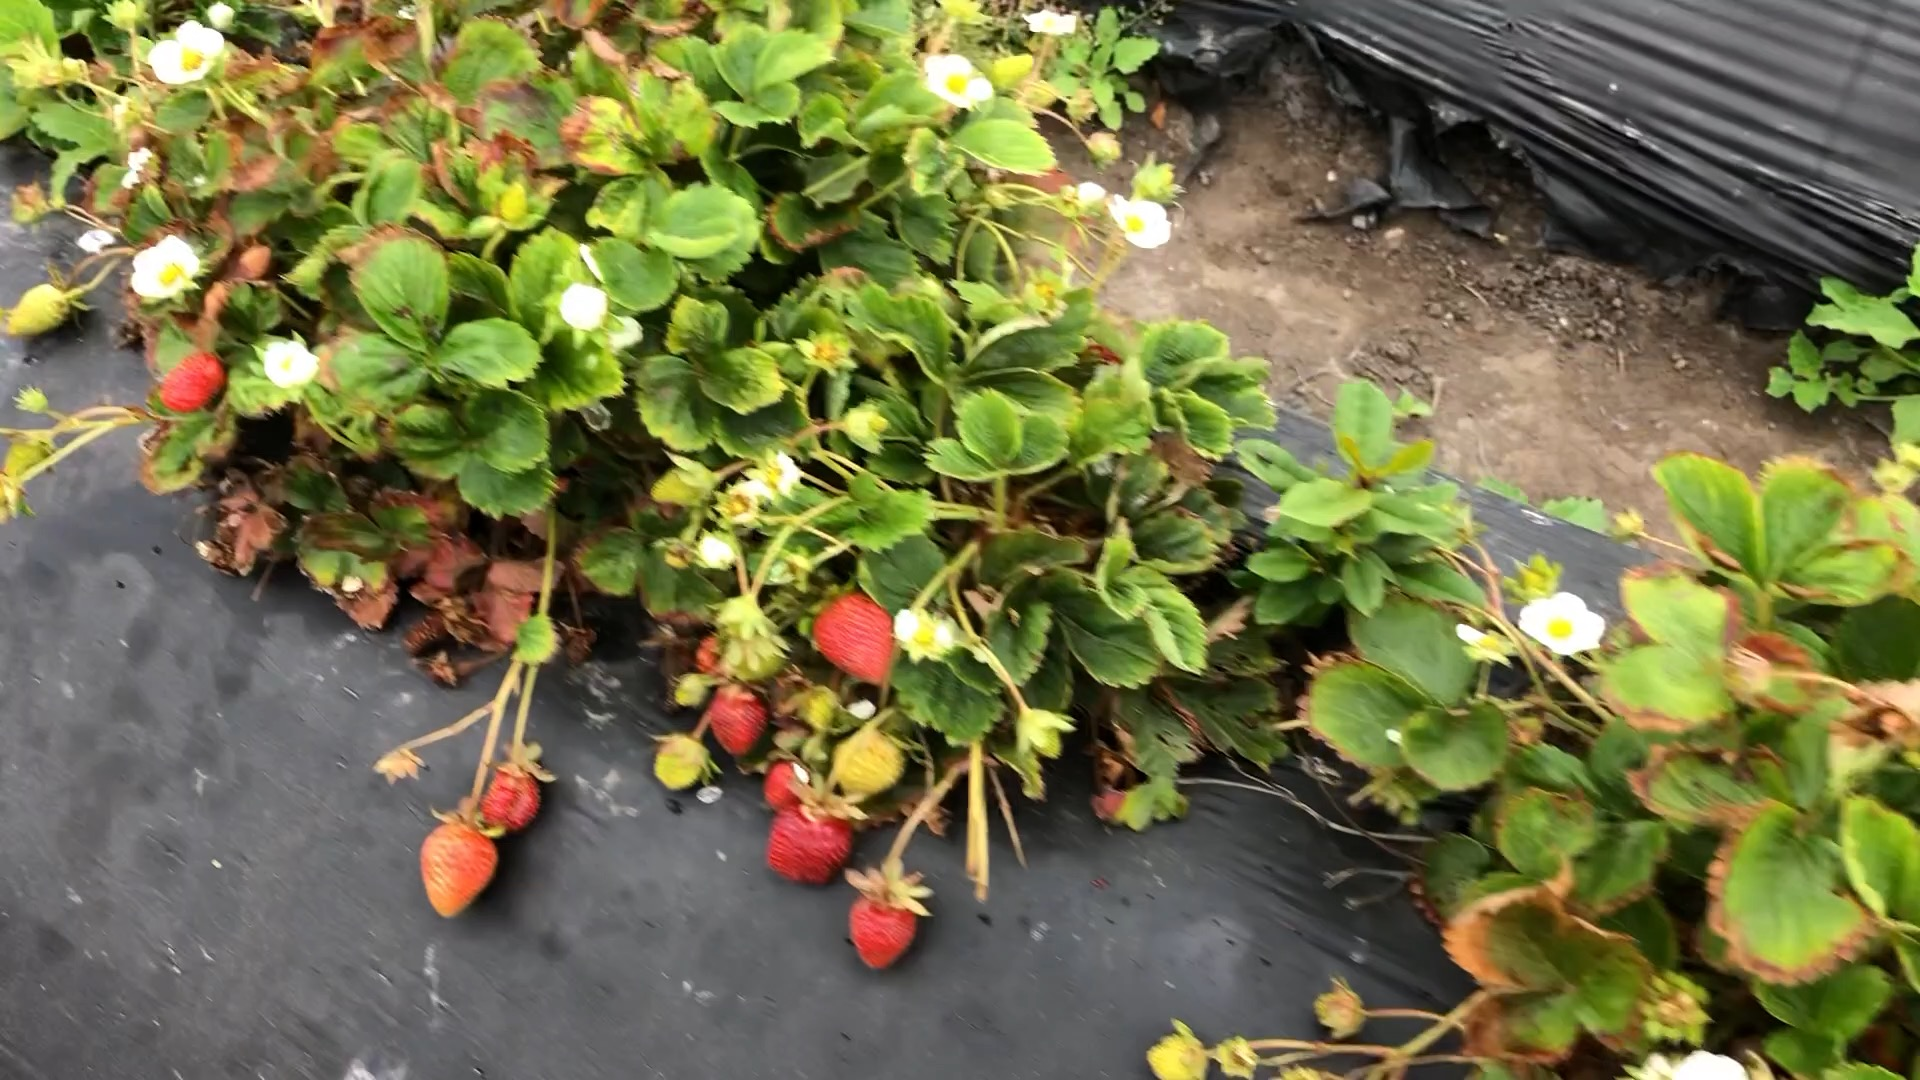ripe_strawberry: (411, 808, 506, 924), (761, 795, 856, 887), (811, 592, 898, 690), (844, 882, 926, 982), (702, 678, 774, 762), (477, 757, 551, 837), (154, 349, 231, 418), (758, 756, 815, 814)
unripe_strawberry: (829, 721, 914, 808), (3, 277, 78, 345), (647, 732, 715, 793), (669, 673, 716, 707)
